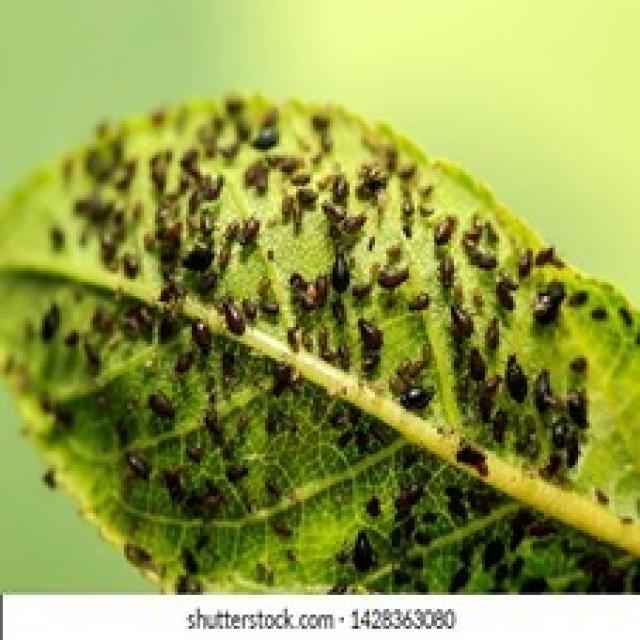Spider_Mites: (15, 90, 632, 587)
